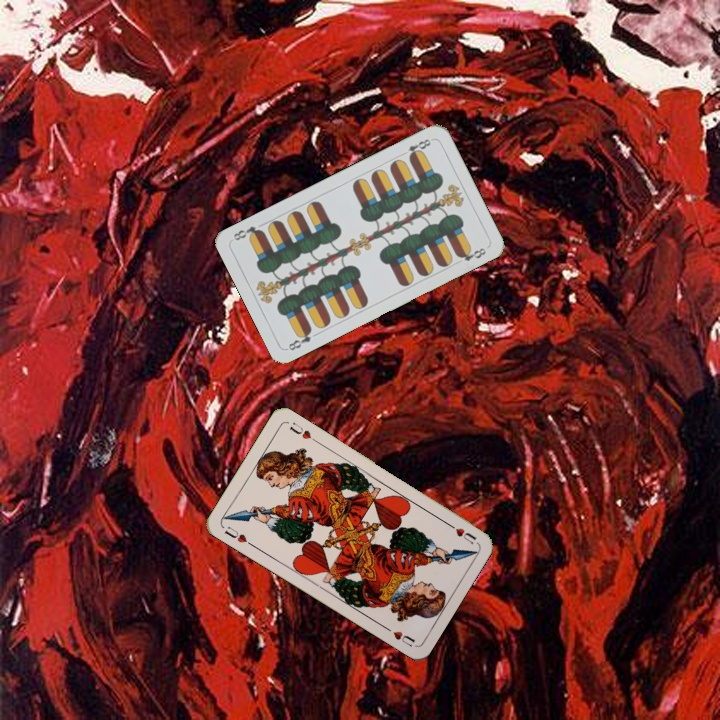E8: (397, 135, 435, 161), (284, 324, 314, 353)
HU: (443, 519, 479, 547), (220, 522, 256, 549)
